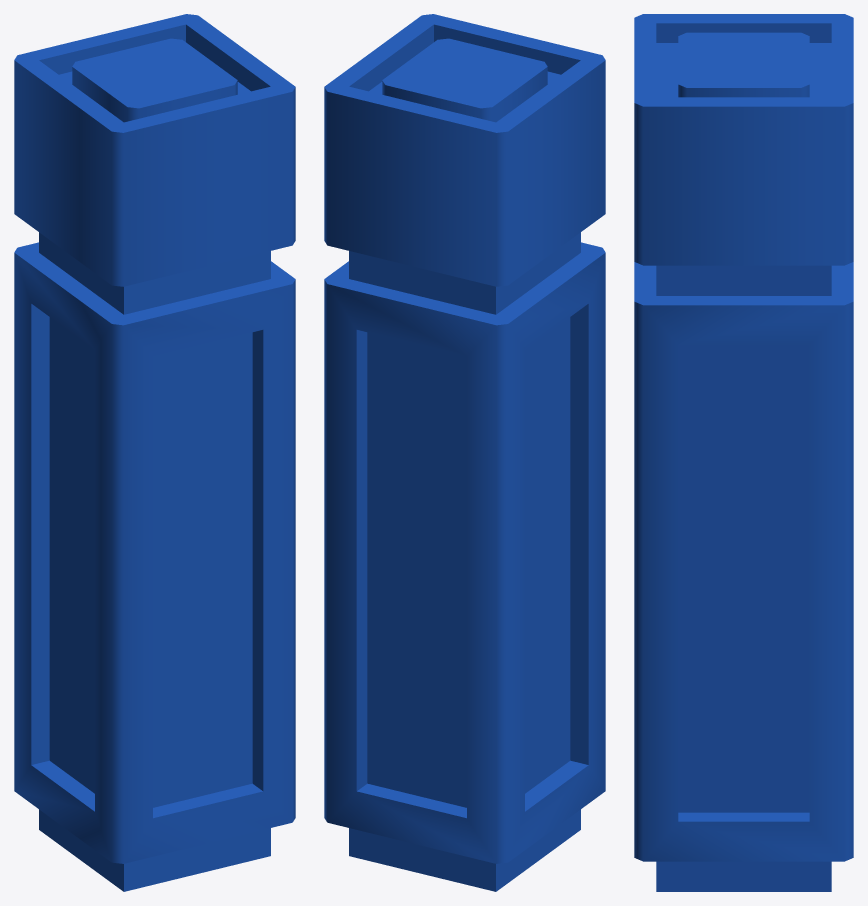
Rendered from low-detail-building-a.glb.
The picture shows the model from 3 angles, left to right: view 1: azimuth 30°, elevation 25°; view 2: azimuth 150°, elevation 25°; view 3: azimuth 270°, elevation 25°; orthographic projection. The views are drawn at different scales.
Visible parts, largest first — view 1: low-detail-building-a; view 2: low-detail-building-a; view 3: low-detail-building-a.
Part boxes in pixels (x1,y1,x2,y2): low-detail-building-a: (14,14,295,891); low-detail-building-a: (324,14,605,891); low-detail-building-a: (634,14,853,891).
Bounding box in the file's own units: 0.5 × 2 × 0.5.
